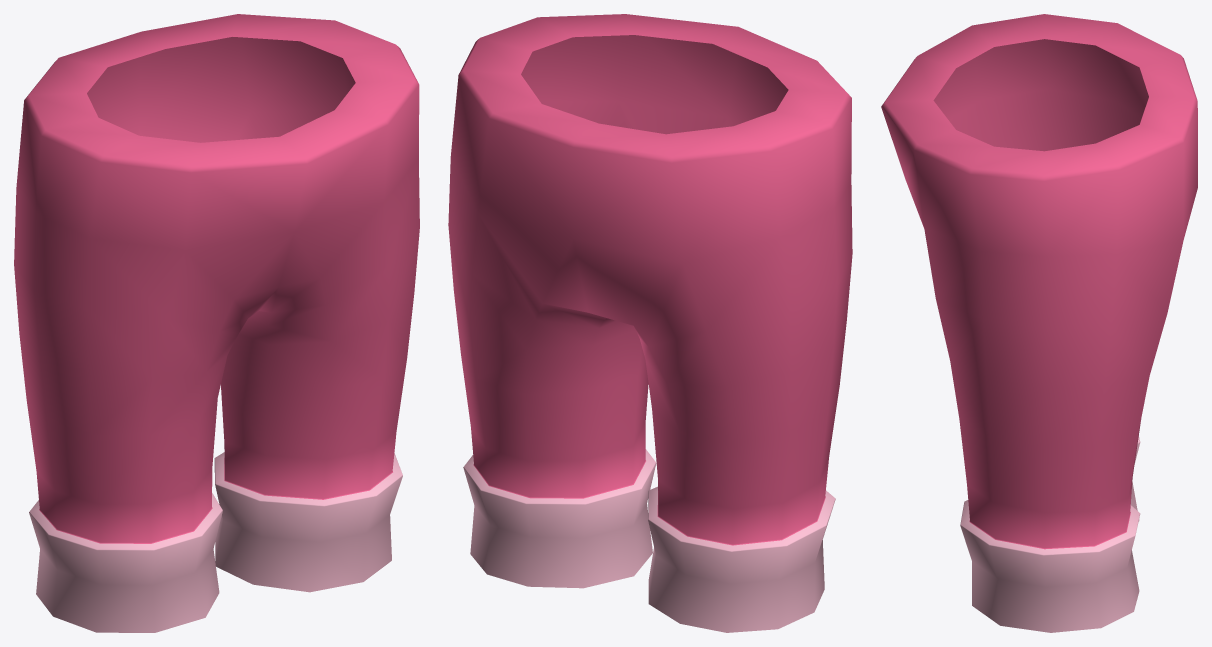
The model's file is Pants_Pink_003.glb.
3 views of the same model, side by side, from view 1: azimuth 30°, elevation 25°; view 2: azimuth 150°, elevation 25°; view 3: azimuth 270°, elevation 25° (orthographic). The views are drawn at different scales.
Visible parts, largest first — view 1: Pants_Pink_003; view 2: Pants_Pink_003; view 3: Pants_Pink_003.
Part boxes in pixels (left/top/right/bottom): Pants_Pink_003: left=14, top=14, right=419, bottom=632; Pants_Pink_003: left=448, top=14, right=852, bottom=632; Pants_Pink_003: left=881, top=14, right=1197, bottom=632.
Bounding box in the file's own units: 0.4529 × 0.5758 × 0.3561.
1 material, 1 textured.
